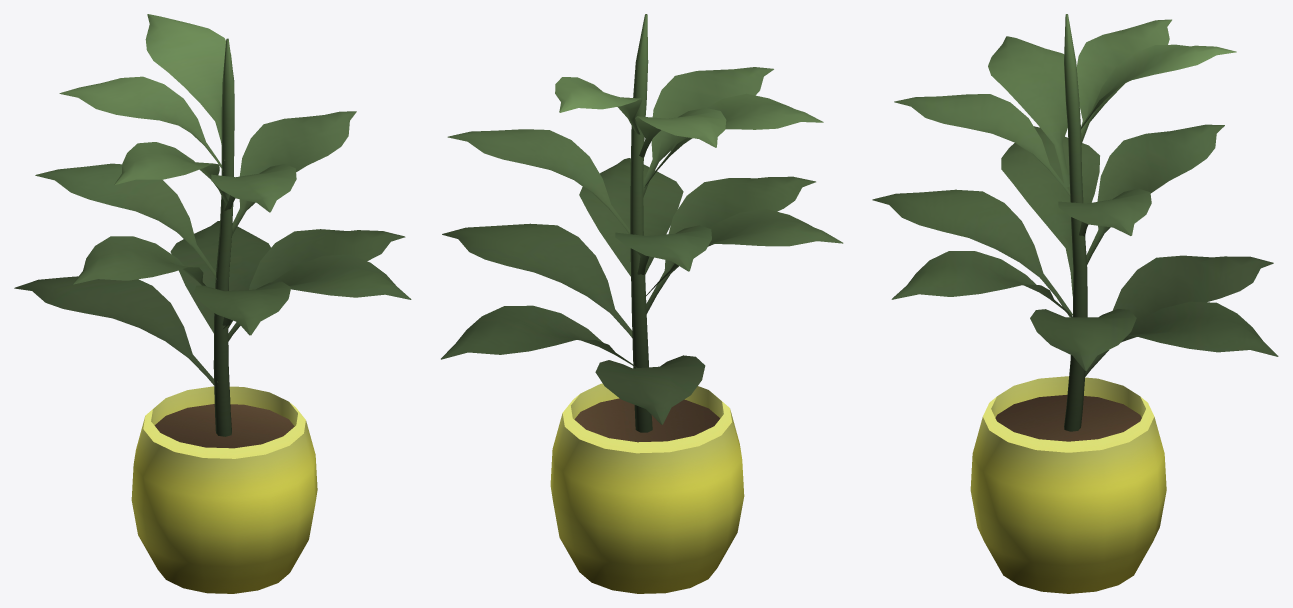
Rendered from plant02.fbx.
The picture shows the model from 3 angles, left to right: view 1: azimuth 30°, elevation 25°; view 2: azimuth 150°, elevation 25°; view 3: azimuth 270°, elevation 25°; orthographic projection. The views are drawn at different scales.
Parts seen in each view (by area): view 1: plant02; view 2: plant02; view 3: plant02.
Part boxes in pixels (x1,y1,x2,y2): plant02: (14, 14, 411, 593); plant02: (441, 14, 843, 593); plant02: (872, 14, 1278, 593).
Size of the model in its own units: 2.7 by 3.78 by 2.53.
